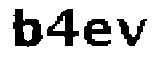4: (45, 7, 81, 49)
b: (6, 4, 45, 51)
e: (81, 17, 114, 50)
v: (115, 15, 152, 48)
